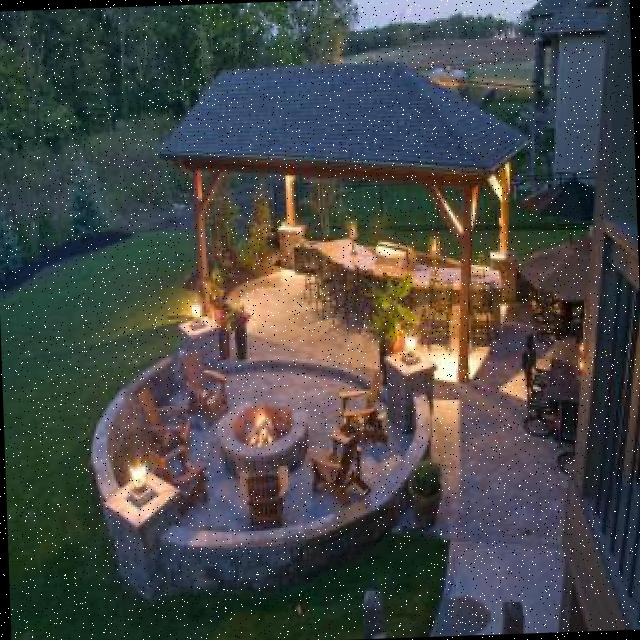fire: (244, 405, 293, 456)
